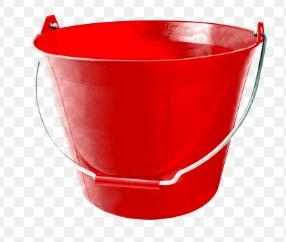SEAU: (12, 9, 271, 228)
